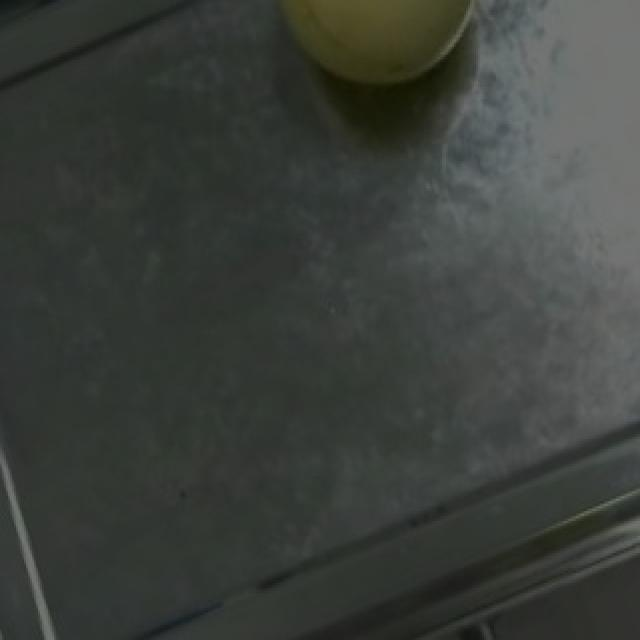Fruit: (236, 0, 500, 124)
